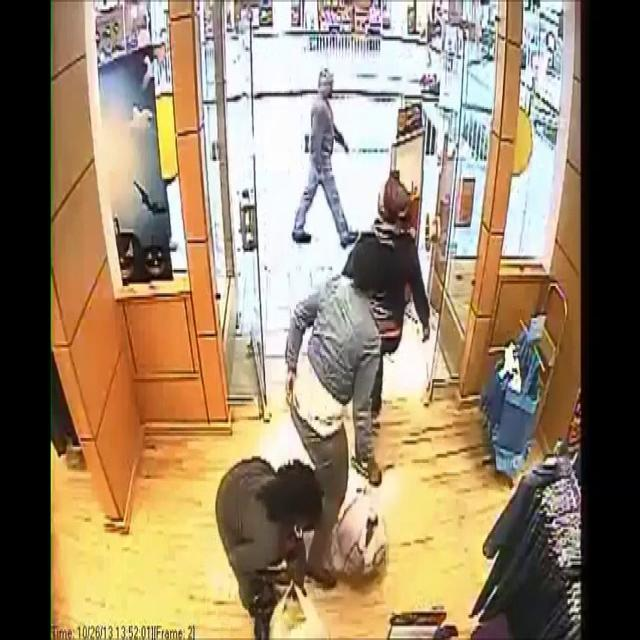normal: (301, 217, 409, 608), (215, 424, 320, 640), (358, 152, 436, 338), (283, 52, 352, 240)
